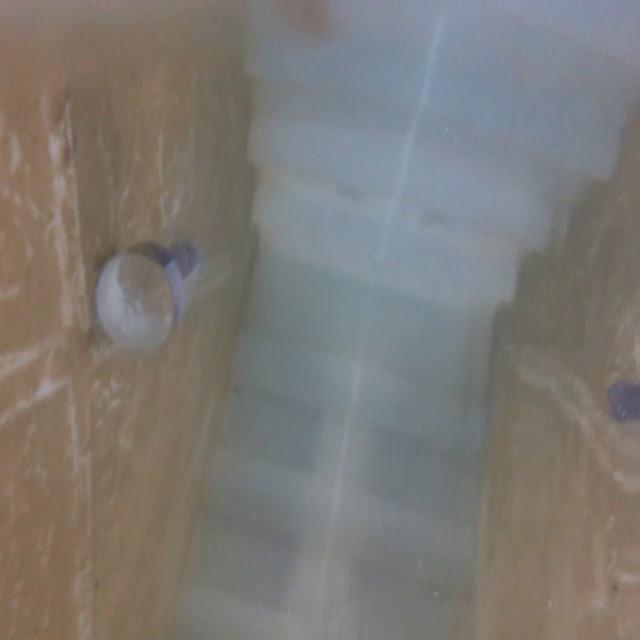plastic bottle: (63, 211, 221, 396)
